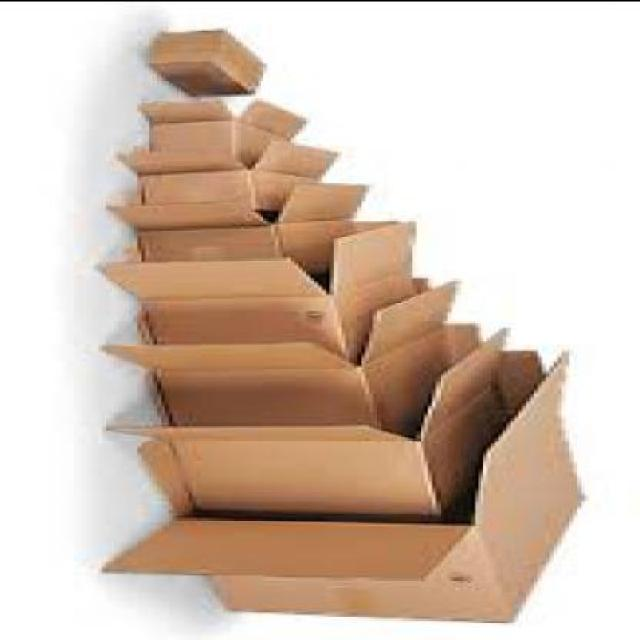CARDBOARD: (105, 353, 586, 624), (110, 326, 515, 520), (106, 278, 463, 438), (103, 223, 420, 368), (110, 186, 373, 271), (121, 142, 342, 202), (145, 99, 310, 159), (153, 31, 267, 95)
